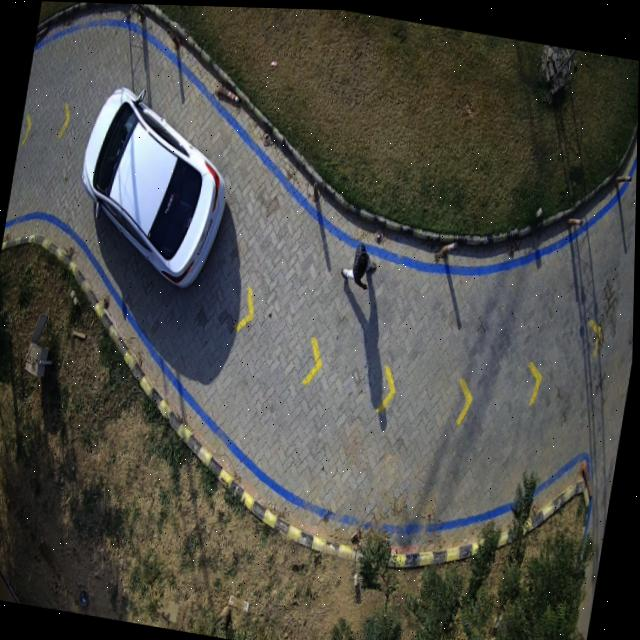car: (83, 87, 227, 285)
